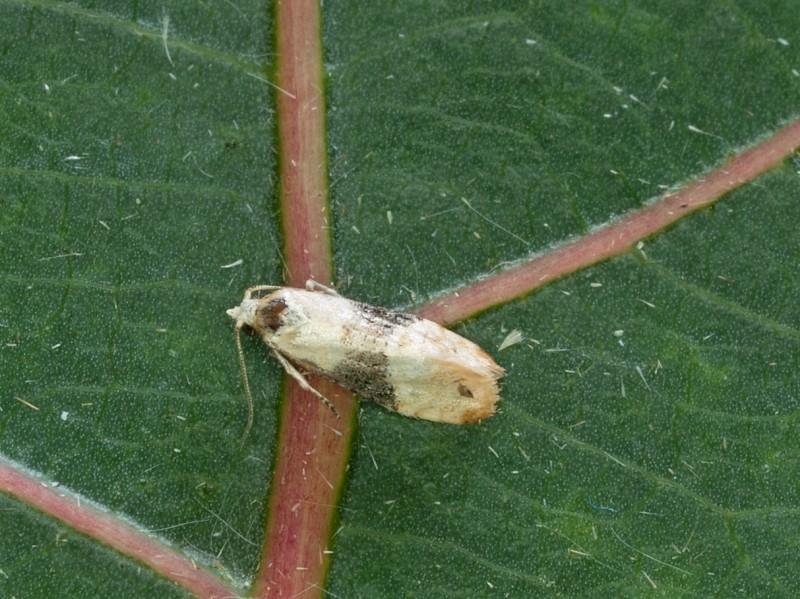Eupoecilia Ambiguella: (224, 275, 507, 449)
